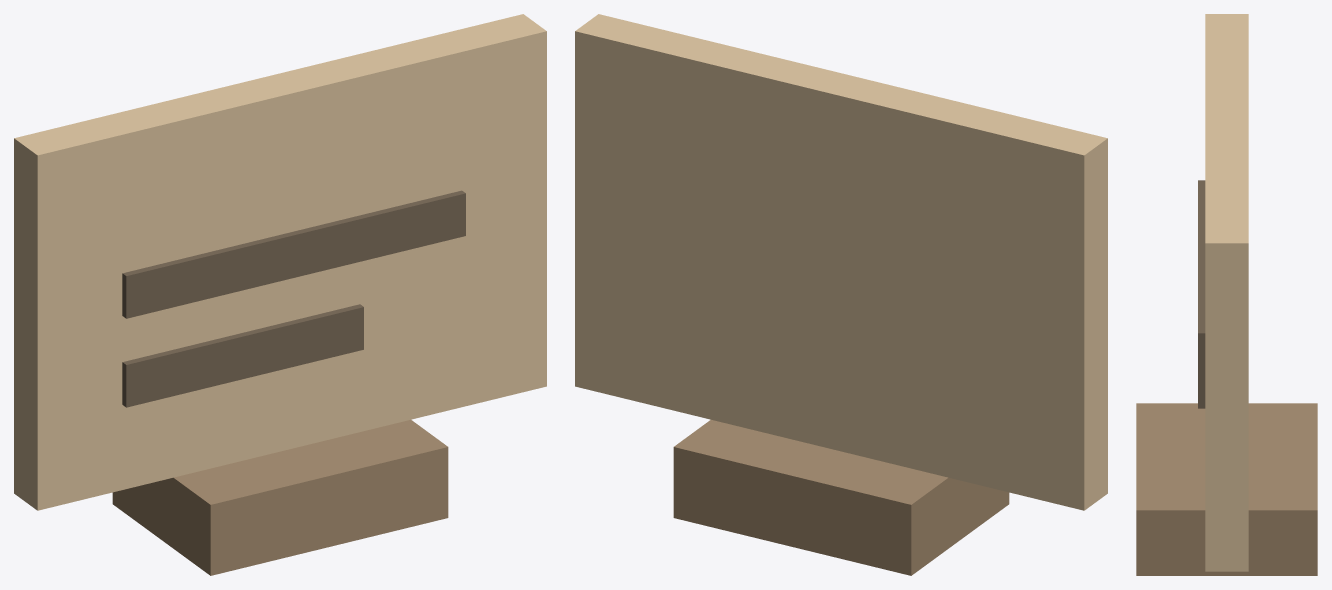
File: sign.glb
3 views of the same model, side by side, from view 1: azimuth 30°, elevation 25°; view 2: azimuth 150°, elevation 25°; view 3: azimuth 270°, elevation 25° (orthographic). The views are drawn at different scales.
Visible parts, largest first — view 1: sign; view 2: sign; view 3: sign.
Part boxes in pixels (x1,y1,x2,y2): sign: [14, 14, 546, 575]; sign: [575, 14, 1107, 575]; sign: [1136, 14, 1317, 575].
Size of the model in its own units: 0.15 by 0.12 by 0.05.
